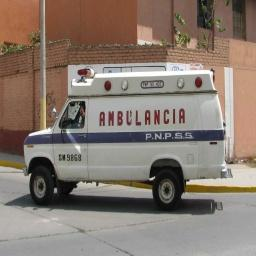ambulance: (24, 69, 231, 209)
